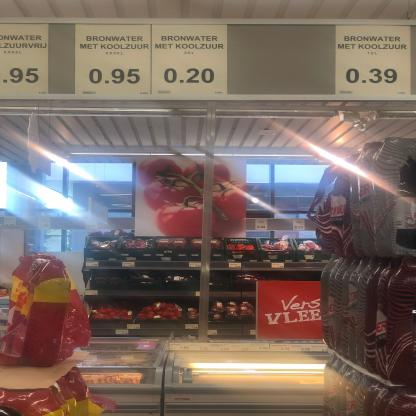prtg: (75, 24, 152, 96), (153, 25, 229, 97), (336, 26, 412, 96), (1, 23, 50, 96)
